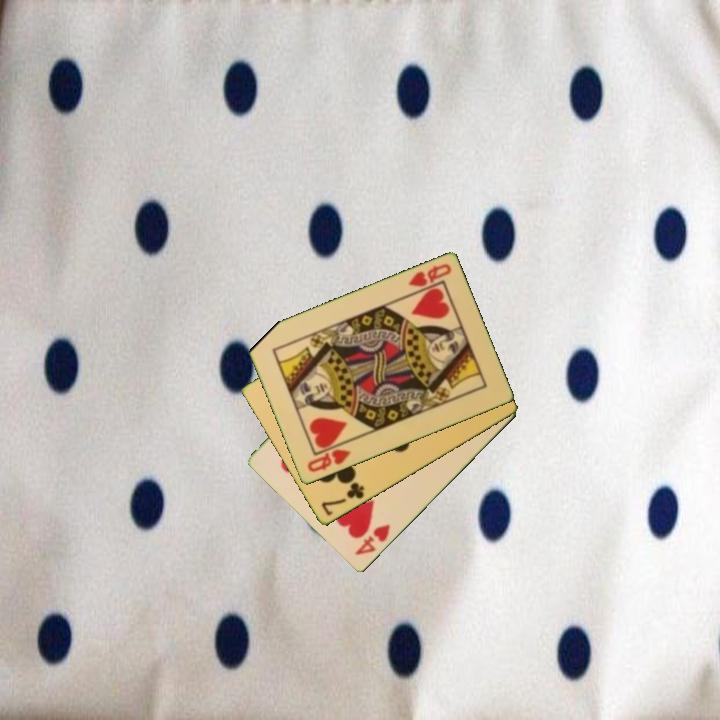4h: (351, 521, 394, 559)
7c: (318, 479, 367, 519)
Qh: (303, 446, 354, 475), (405, 260, 454, 290)
